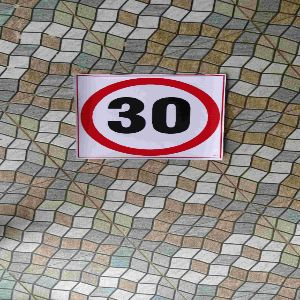speedlimit30: (75, 74, 224, 161)
